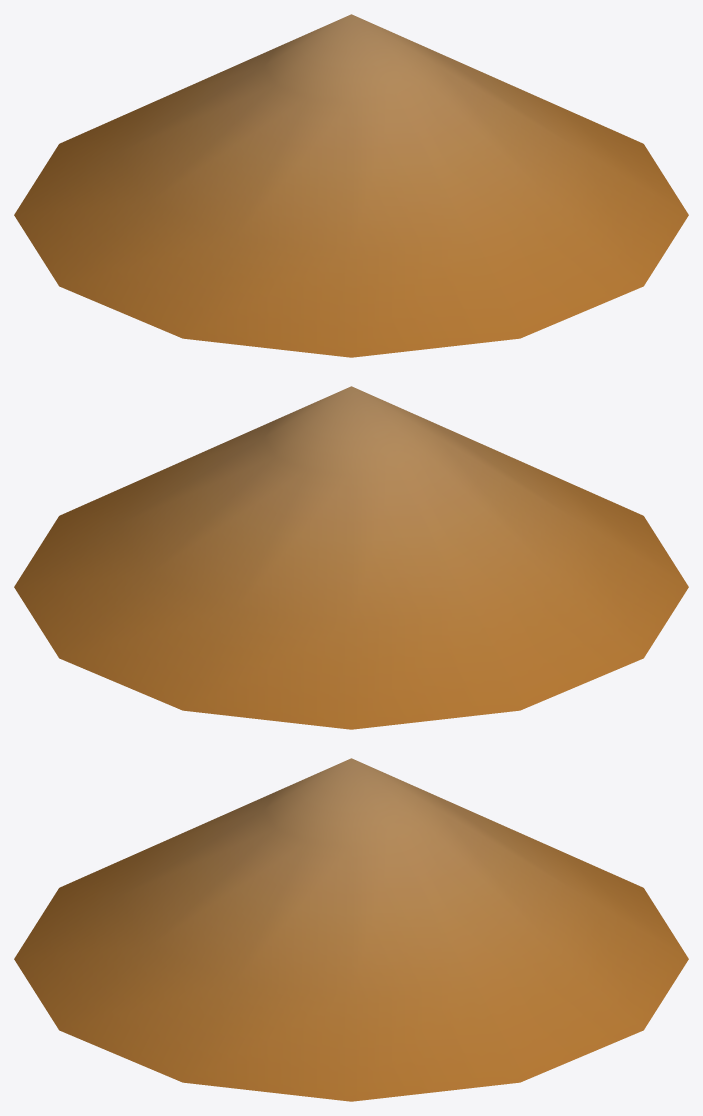
File: cone_hat_1_lvl.fbx
3 views of the same model, one above another, from view 1: azimuth 30°, elevation 25°; view 2: azimuth 150°, elevation 25°; view 3: azimuth 270°, elevation 25° (orthographic).
Visible parts, largest first — view 1: cone_hat; view 2: cone_hat; view 3: cone_hat.
Part boxes in pixels (left/top/right/bottom): cone_hat: left=14, top=14, right=688, bottom=357; cone_hat: left=14, top=386, right=688, bottom=729; cone_hat: left=14, top=758, right=688, bottom=1101.
Size of the model in its own units: 1.07 by 0.3507 by 1.07.
